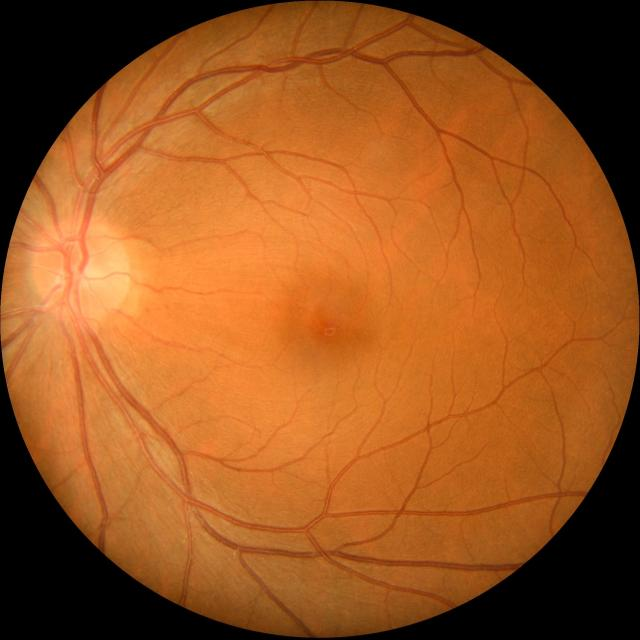OC: (69, 261, 94, 284)
OD: (29, 214, 130, 320)
